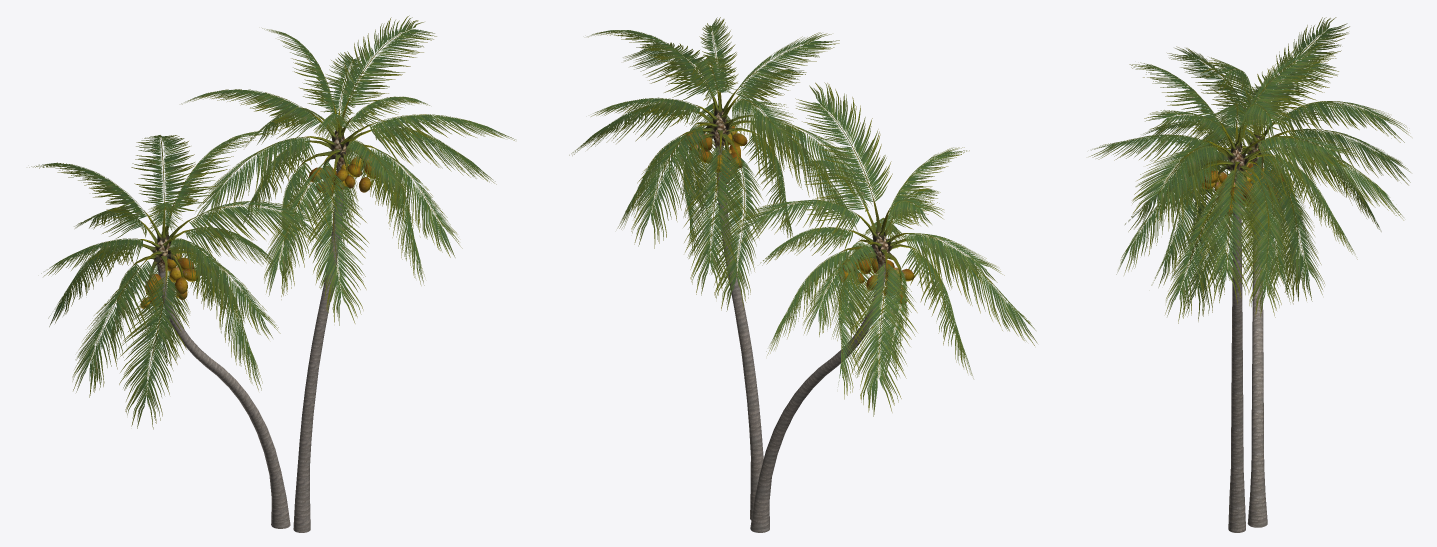
File: coconut.glb
3 views of the same model, side by side, from view 1: azimuth 30°, elevation 25°; view 2: azimuth 150°, elevation 25°; view 3: azimuth 270°, elevation 25° (orthographic). The views are drawn at different scales.
Visible parts, largest first — view 1: Tree_2_Tree_2Mat_0, Tree_0_Tree_0Mat_0, Tree_3_Tree_3Mat_0, Tree_4_Tree_4Mat_0; view 2: Tree_2_Tree_2Mat_0, Tree_0_Tree_0Mat_0, Tree_3_Tree_3Mat_0, Tree_4_Tree_4Mat_0, Tree_1_Tree_1Mat_0; view 3: Tree_2_Tree_2Mat_0, Tree_0_Tree_0Mat_0, Tree_3_Tree_3Mat_0, Tree_4_Tree_4Mat_0.
Part boxes in pixels (x1=…): Tree_2_Tree_2Mat_0: x1=29, y1=15, x2=515, y2=429; Tree_0_Tree_0Mat_0: x1=158, y1=170, x2=343, y2=532; Tree_3_Tree_3Mat_0: x1=132, y1=98, x2=378, y2=295; Tree_4_Tree_4Mat_0: x1=140, y1=154, x2=375, y2=308; Tree_2_Tree_2Mat_0: x1=569, y1=17, x2=1037, y2=416; Tree_0_Tree_0Mat_0: x1=716, y1=152, x2=885, y2=532; Tree_3_Tree_3Mat_0: x1=679, y1=82, x2=917, y2=291; Tree_4_Tree_4Mat_0: x1=685, y1=126, x2=914, y2=304; Tree_1_Tree_1Mat_0: x1=712, y1=112, x2=888, y2=269; Tree_2_Tree_2Mat_0: x1=1089, y1=17, x2=1410, y2=323; Tree_0_Tree_0Mat_0: x1=1228, y1=201, x2=1267, y2=532; Tree_3_Tree_3Mat_0: x1=1204, y1=112, x2=1296, y2=202; Tree_4_Tree_4Mat_0: x1=1202, y1=162, x2=1283, y2=217.
Bounding box in the file's own units: 6.3 × 6.28 × 4.02.
5 materials, 5 textured.
